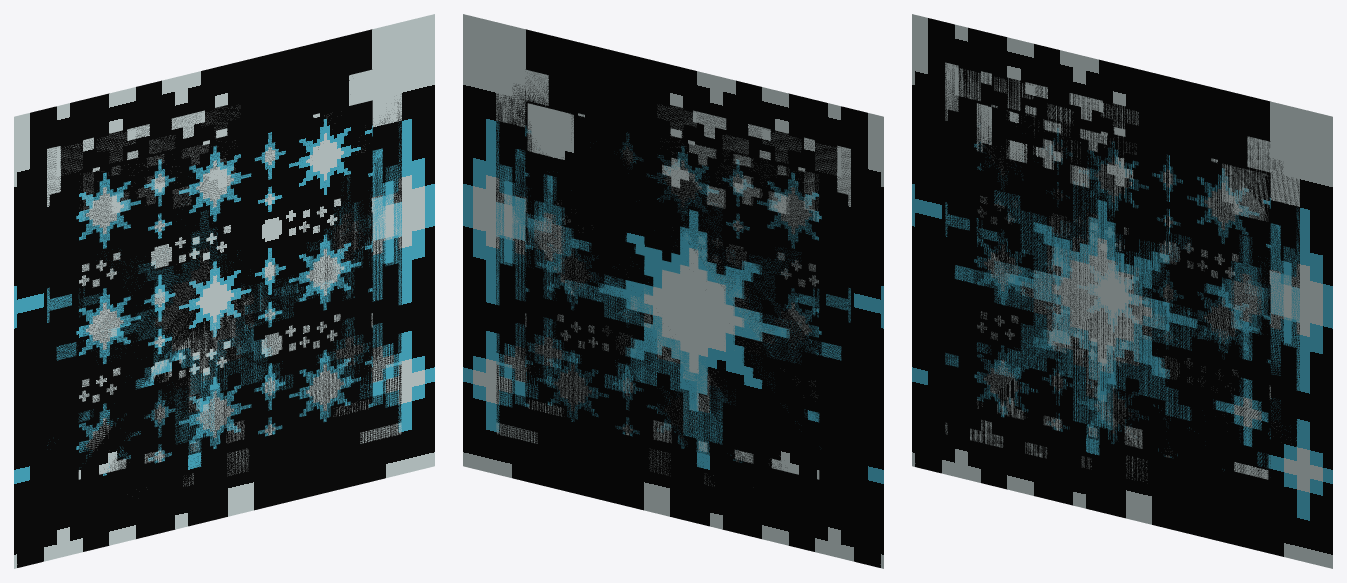
The picture shows the model from 3 angles, left to right: view 1: azimuth 30°, elevation 25°; view 2: azimuth 150°, elevation 25°; view 3: azimuth 330°, elevation 25°; orthographic projection.
Visible parts, largest first — view 1: ef_024; view 2: ef_024; view 3: ef_024.
Boxes of the visible parts, x1,y1,x2,y2 form: ef_024: (14,14,434,568); ef_024: (463,14,883,568); ef_024: (912,14,1332,568).
Bounding box in the file's own units: 0.2373 × 0.2437 × 0.
1 material, 1 textured.
